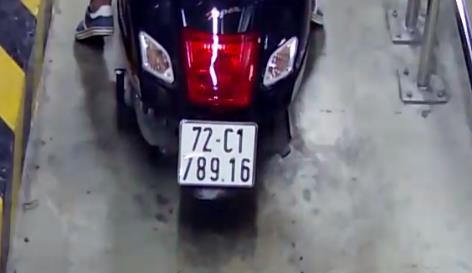lisence: (176, 119, 256, 186)
